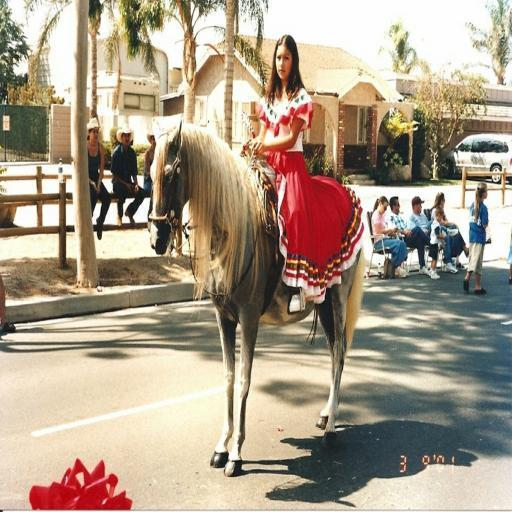horse: (148, 118, 366, 478)
